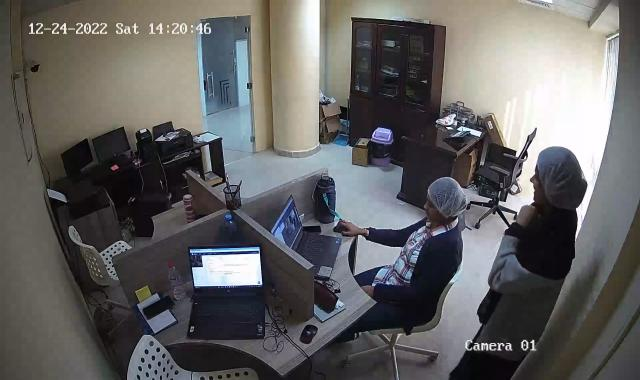hairnet: (529, 147, 585, 212), (426, 178, 469, 225)
